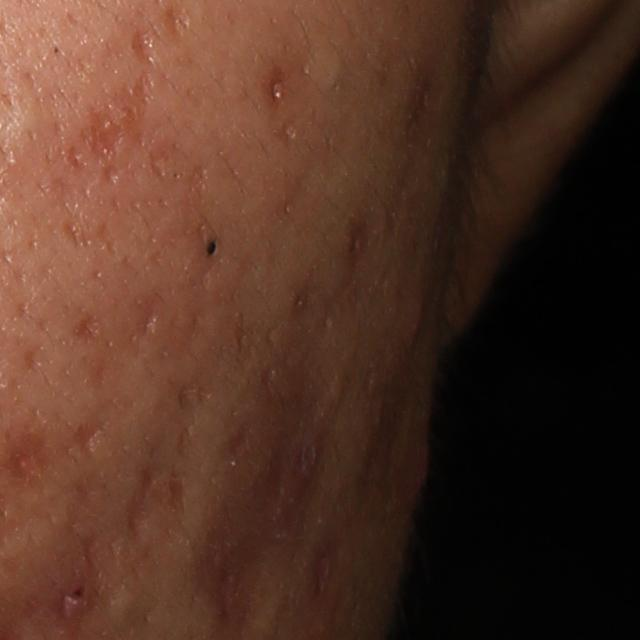atrophic_scar: (248, 388, 323, 550), (49, 174, 117, 261), (394, 45, 446, 152), (383, 140, 429, 239), (184, 274, 212, 369), (117, 69, 150, 149), (81, 101, 119, 165), (127, 470, 153, 558), (73, 413, 111, 467), (132, 21, 162, 70), (70, 310, 107, 345), (60, 145, 89, 174), (265, 65, 286, 105), (23, 345, 42, 379), (99, 163, 122, 185)
